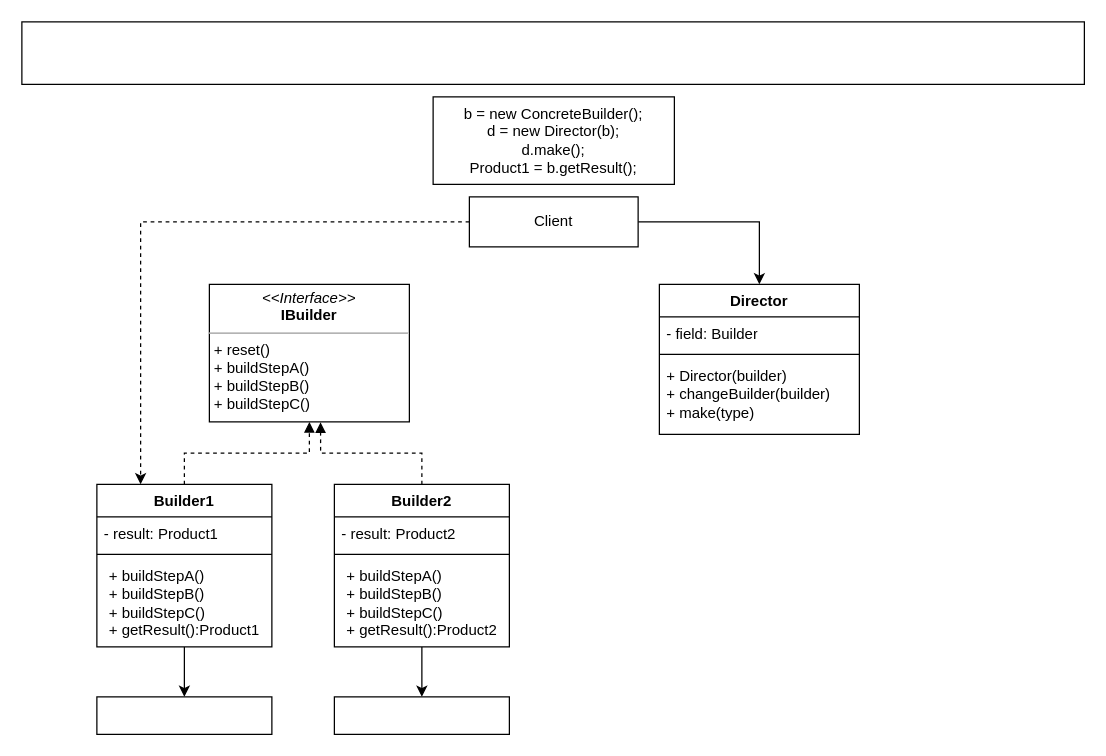
Some shapes in this 1106 by 756 pixel diagram are drawn without their labels. The shapes that lost their labels are listed below. From the top down, each one's centre as x and y in pixels, then its label:
point (552, 52): Builder creational pattern diagram
point (184, 715): Product 1
point (421, 715): Product 2
